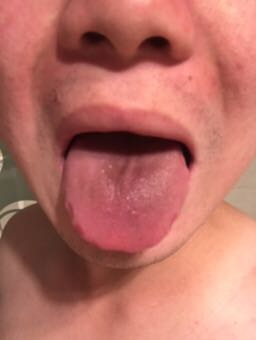chihenshe: (161, 178, 190, 241), (64, 199, 87, 243)
heitaishe: (62, 134, 189, 253)
hongshe: (62, 134, 189, 253)
